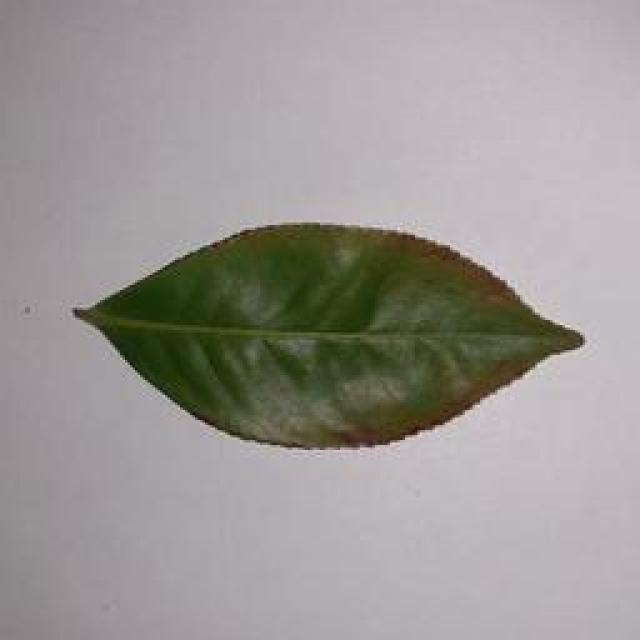Red Leaf Spot: (68, 218, 607, 456)
